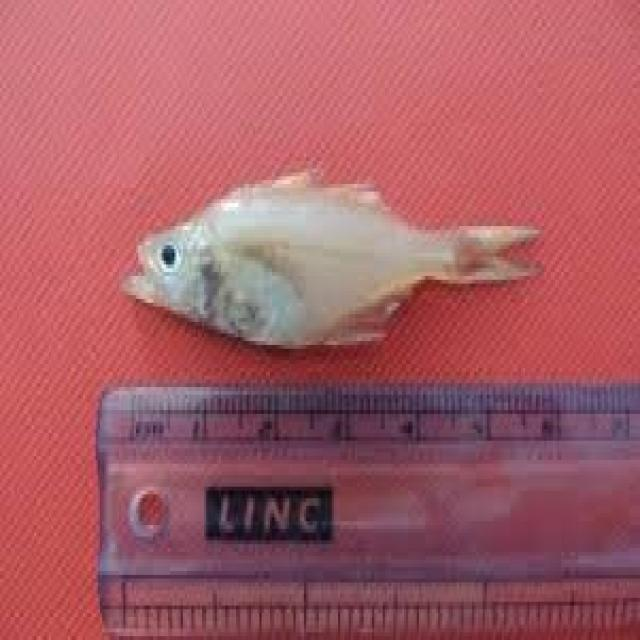Glass-Perchlet: (83, 132, 546, 358)
